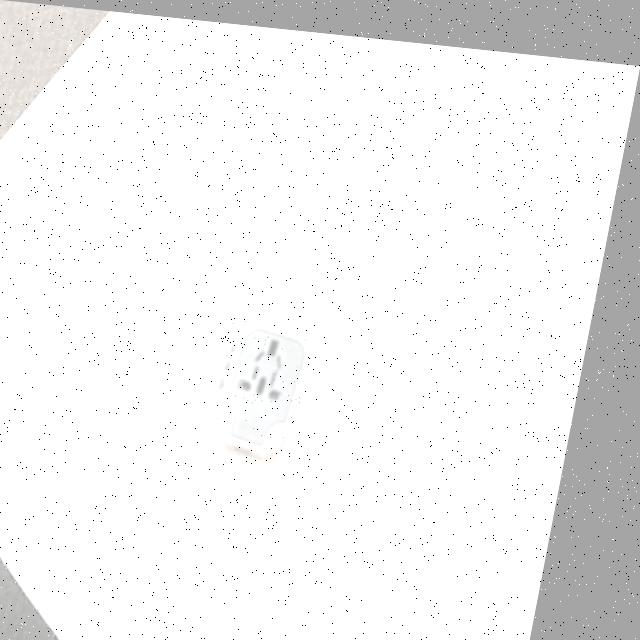adapter: (221, 311, 326, 452)
